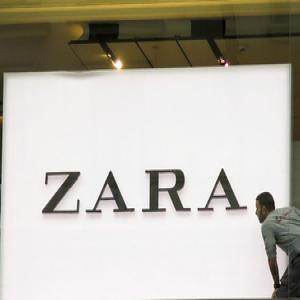zara: (42, 168, 248, 214)
